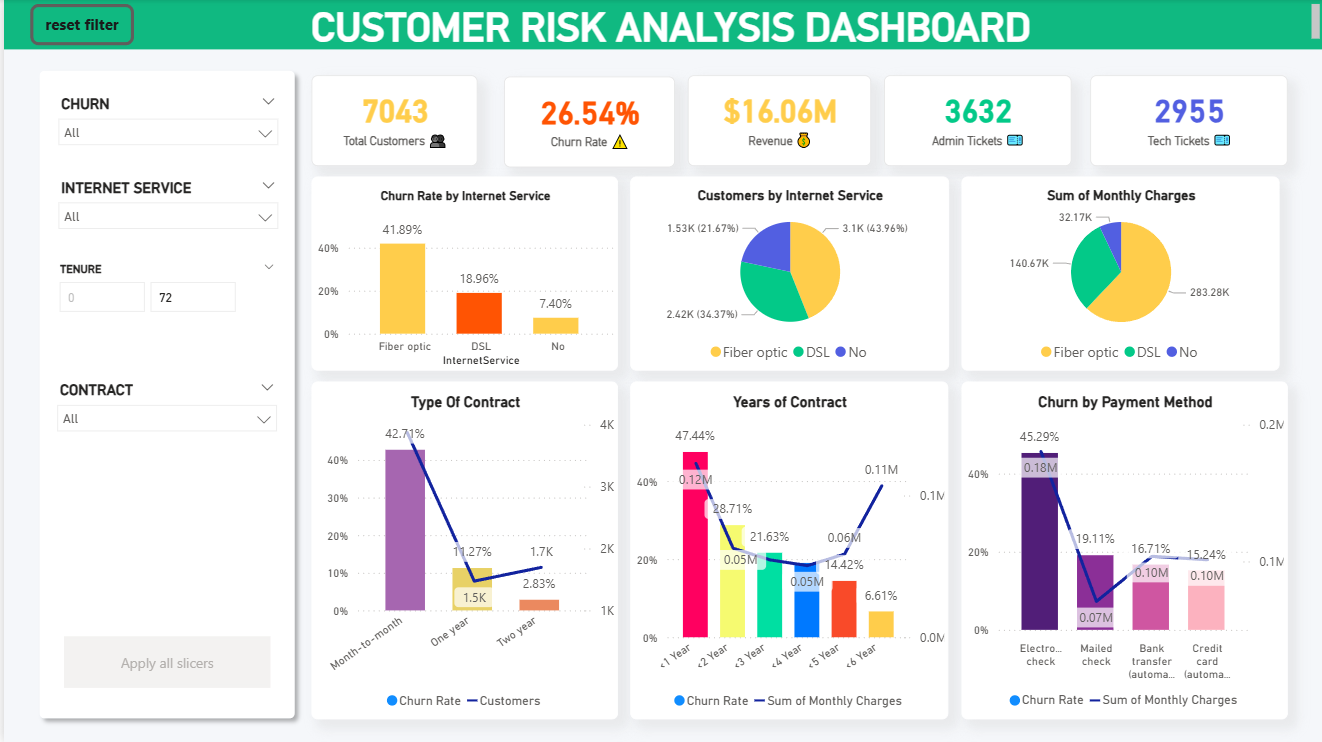

This screenshot's page, from the dashboard's own definition file:
{"tool":"powerbi","page":{"name":"Customer Risk Analysis","canvas":[1280,720],"ordinal":1},"visuals":[{"type":"shape","box":[0,0,1280,49],"z":0},{"type":"textbox","box":[20.6,0,1258.9,48.4],"z":1000},{"type":"shape","box":[25,61,265,645],"z":2000},{"type":"slicer","fields":{"Values":["Churn.Churn"]},"box":[42,82,233,81],"z":3000},{"type":"slicer","fields":{"Values":["Churn.InternetService"]},"box":[42,163,233,81],"z":4000},{"type":"slicer","fields":{"Values":["Churn.tenure"]},"box":[41,244,233,97],"z":5000},{"type":"slicer","fields":{"Values":["Churn.Contract"]},"box":[41,360,233,81],"z":6000},{"type":"card","fields":{"Values":["CountNonNull(01 Churn-Dataset.customerID)"]},"box":[298,74,161,88],"z":7000},{"type":"card","fields":{"Values":["Churn.% Churn Rate"]},"box":[484.2,75.1,165.8,88.4],"z":8000},{"type":"card","fields":{"Values":["Sum(Churn.TotalCharges)"]},"box":[662.1,73.8,177.9,88.4],"z":9000},{"type":"card","fields":{"Values":["Sum(Churn.numAdminTickets)"]},"box":[852.2,73.8,181.6,88.4],"z":10000},{"type":"card","fields":{"Values":["Sum(Churn.numTechTickets)"]},"box":[1051.9,73.8,191.3,88.4],"z":11000},{"type":"columnChart","title":"Churn Rate by Internet Service","fields":{"Y":["Churn.% Churn Rate"],"Category":["Churn.InternetService"]},"box":[298,172,297,188],"z":12000},{"type":"pieChart","title":"Customers by Internet Service","fields":{"Y":["CountNonNull(Churn.customerID)"],"Category":["Churn.InternetService"]},"box":[606.5,171.9,308.7,187.6],"z":13000},{"type":"pieChart","title":"Sum of Monthly Charges","fields":{"Category":["Churn.InternetService"],"Y":["Sum(Churn.MonthlyCharges)"]},"box":[927,172,308,188],"z":14000},{"type":"lineStackedColumnComboChart","title":"Type Of Contract","fields":{"Y2":["CountNonNull(Churn.customerID)"],"Y":["Churn.% Churn Rate"],"Category":["Churn.Contract"]},"box":[298,370,297,327],"z":15000},{"type":"lineStackedColumnComboChart","title":"Years of Contract","fields":{"Y":["Churn.% Churn Rate"],"Y2":["Sum(Churn.MonthlyCharges)"],"Category":["Churn.Tenure(in years)"]},"box":[607,370,308,327],"z":16000},{"type":"lineStackedColumnComboChart","title":"Churn by Payment Method","fields":{"Y":["Churn.% Churn Rate"],"Y2":["Sum(Churn.MonthlyCharges)"],"Category":["Churn.PaymentMethod"]},"box":[927.2,370.4,315.9,326.8],"z":17000},{"type":"actionButton","box":[58.1,617.4,199.7,49.6],"z":18000},{"type":"actionButton","box":[25.4,4.8,100.5,39.9],"z":19000}]}

Visuals, with their boxes in screenshot pixels (x1, y1, x2, y2), scaled from the page's 1280x720 canvas onto the 1322x742 screenshot:
shape: [0,0,1321,50]
textbox: [21,0,1321,50]
shape: [26,63,300,728]
slicer - Churn.Churn: [43,85,284,168]
slicer - Churn.InternetService: [43,168,284,251]
slicer - Churn.tenure: [42,251,283,351]
slicer - Churn.Contract: [42,371,283,454]
card - CountNonNull(01 Churn-Dataset.customerID): [308,76,474,167]
card - Churn.% Churn Rate: [500,77,671,168]
card - Sum(Churn.TotalCharges): [684,76,868,167]
card - Sum(Churn.numAdminTickets): [880,76,1068,167]
card - Sum(Churn.numTechTickets): [1086,76,1284,167]
"Churn Rate by Internet Service" columnChart: [308,177,615,371]
"Customers by Internet Service" pieChart: [626,177,945,370]
"Sum of Monthly Charges" pieChart: [957,177,1276,371]
"Type Of Contract" lineStackedColumnComboChart: [308,381,615,718]
"Years of Contract" lineStackedColumnComboChart: [627,381,945,718]
"Churn by Payment Method" lineStackedColumnComboChart: [958,382,1284,719]
actionButton: [60,636,266,687]
actionButton: [26,5,130,46]
